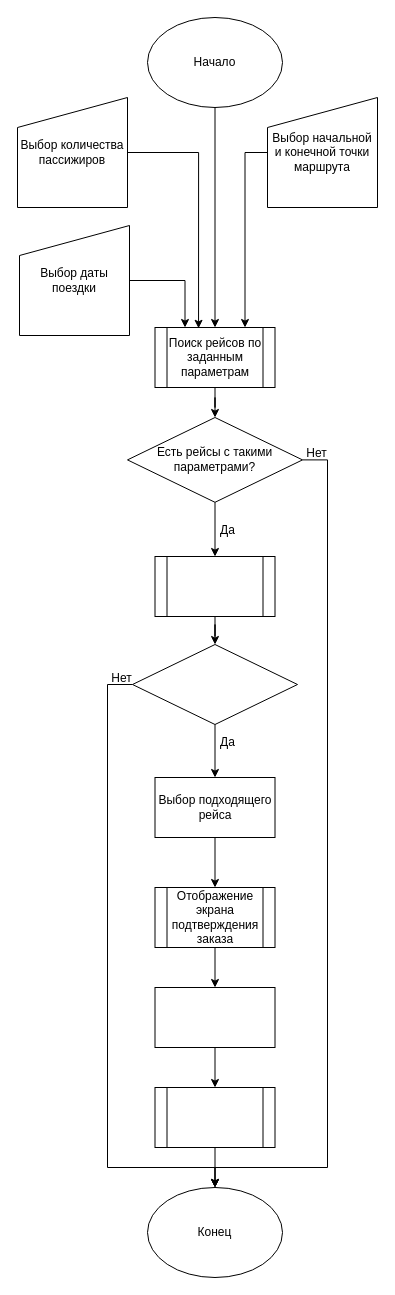
This 395x1295 diagram has some shape labels left out. Each missing label, with the centre of its shape:
"Бронирование места на рейсе" belongs at pixel 214 1117.
"Есть подходящий рейс?" belongs at pixel 215 684.
"Отображение списка рейсов" belongs at pixel 214 586.
"Подтверждение заказа" belongs at pixel 214 1017.
